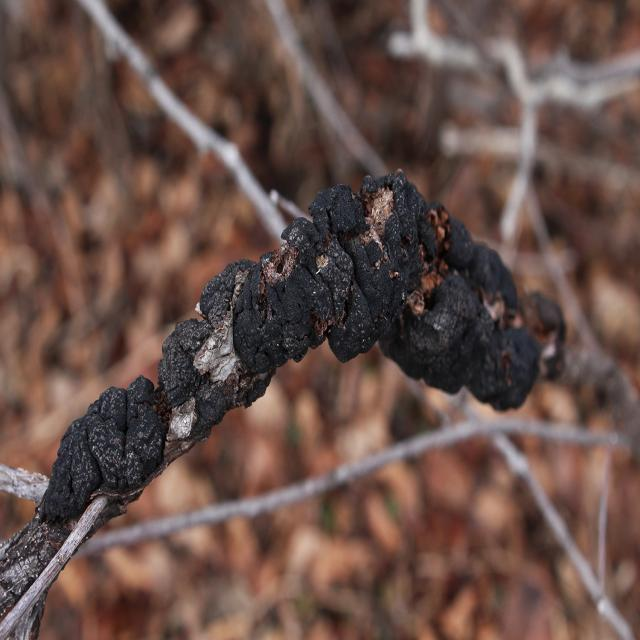Black_knot: (35, 167, 565, 526), (230, 168, 437, 376), (36, 373, 168, 524)
